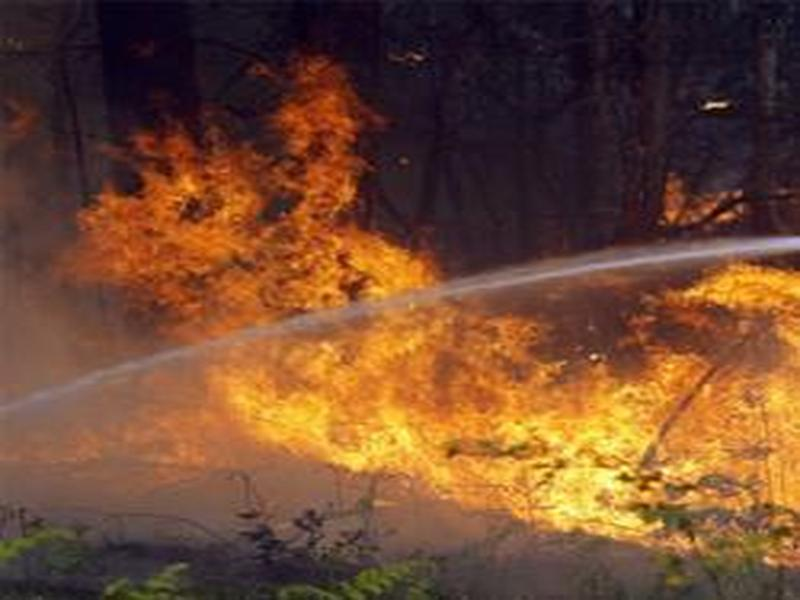FIRE: (81, 159, 800, 556)
